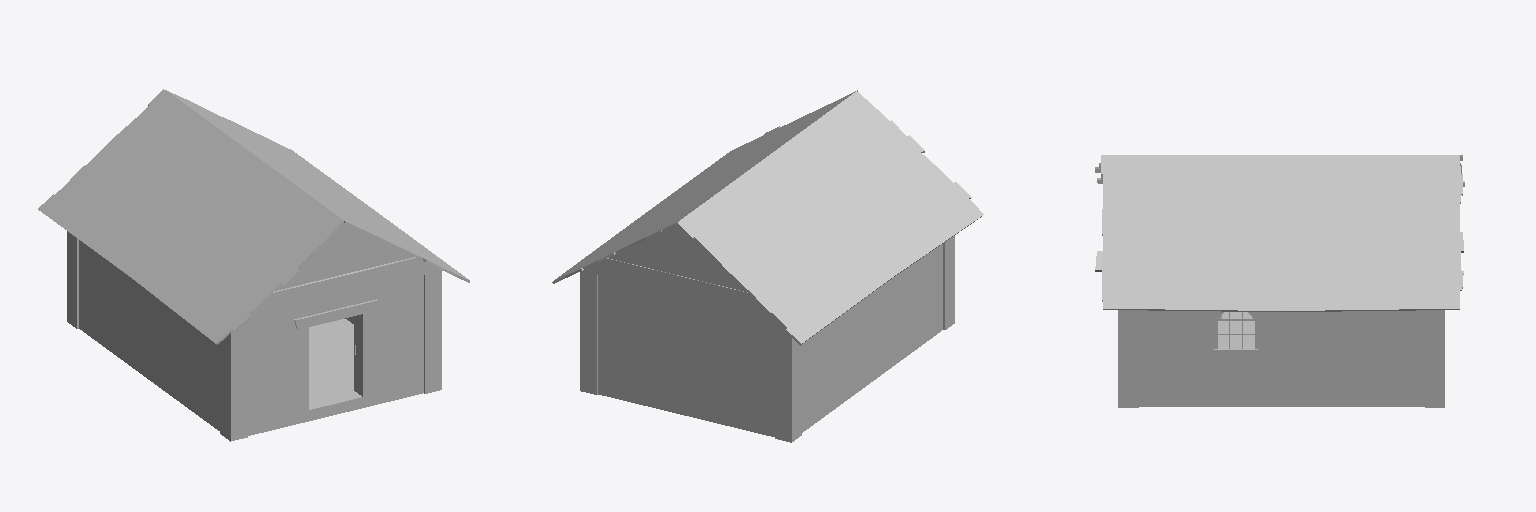
File: world.obj
The picture shows the model from 3 angles: view 1: azimuth 30°, elevation 25°; view 2: azimuth 150°, elevation 25°; view 3: azimuth 270°, elevation 25°; orthographic projection.
Parts seen in each view (by area): view 1: hut; view 2: hut; view 3: hut.
Boxes of the visible parts, x1=… form: hut: x1=38, y1=89, x2=469, y2=441; hut: x1=552, y1=90, x2=983, y2=442; hut: x1=1095, y1=155, x2=1464, y2=407.
Size of the model in its own units: 34.48 by 25.82 by 43.05.